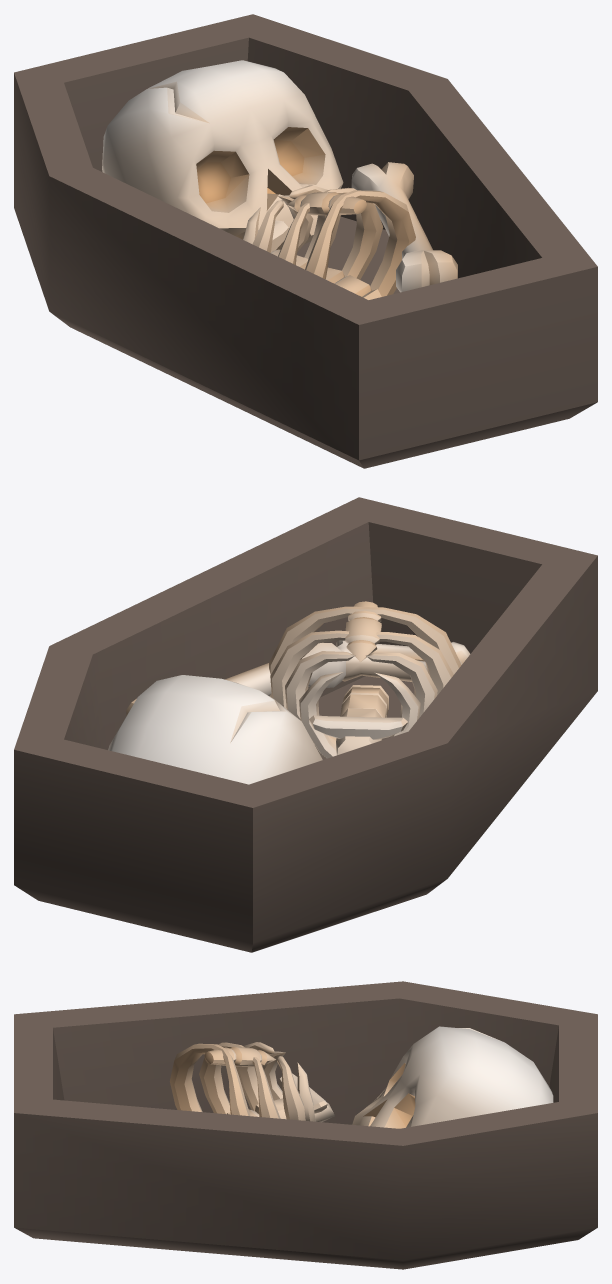
The model's file is coffin_decorated.glb.
The picture shows the model from 3 angles, top to bottom: view 1: azimuth 30°, elevation 25°; view 2: azimuth 150°, elevation 25°; view 3: azimuth 270°, elevation 25°; orthographic projection. The views are drawn at different scales.
Parts seen in each view (by area): view 1: coffin_decorated; view 2: coffin_decorated; view 3: coffin_decorated.
Boxes of the visible parts, x1,y1,x2,y2 form: coffin_decorated: (14,14,597,468); coffin_decorated: (14,497,597,952); coffin_decorated: (14,981,597,1269).
Size of the model in its own units: 2 by 0.9025 by 3.
1 material, 1 textured.
